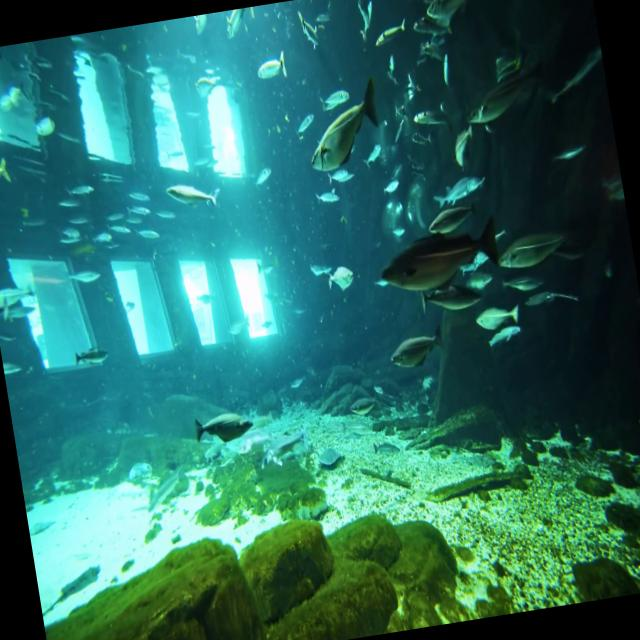fish: (376, 208, 506, 304), (294, 66, 392, 182), (453, 57, 542, 137), (491, 207, 586, 280), (381, 314, 450, 382), (164, 167, 226, 230), (190, 404, 254, 456), (424, 0, 498, 36), (246, 40, 292, 94), (471, 294, 524, 340), (366, 14, 414, 60), (319, 253, 362, 300), (67, 332, 109, 378), (0, 271, 42, 316), (218, 7, 256, 46), (27, 104, 59, 148), (294, 7, 324, 51), (0, 140, 15, 202)
